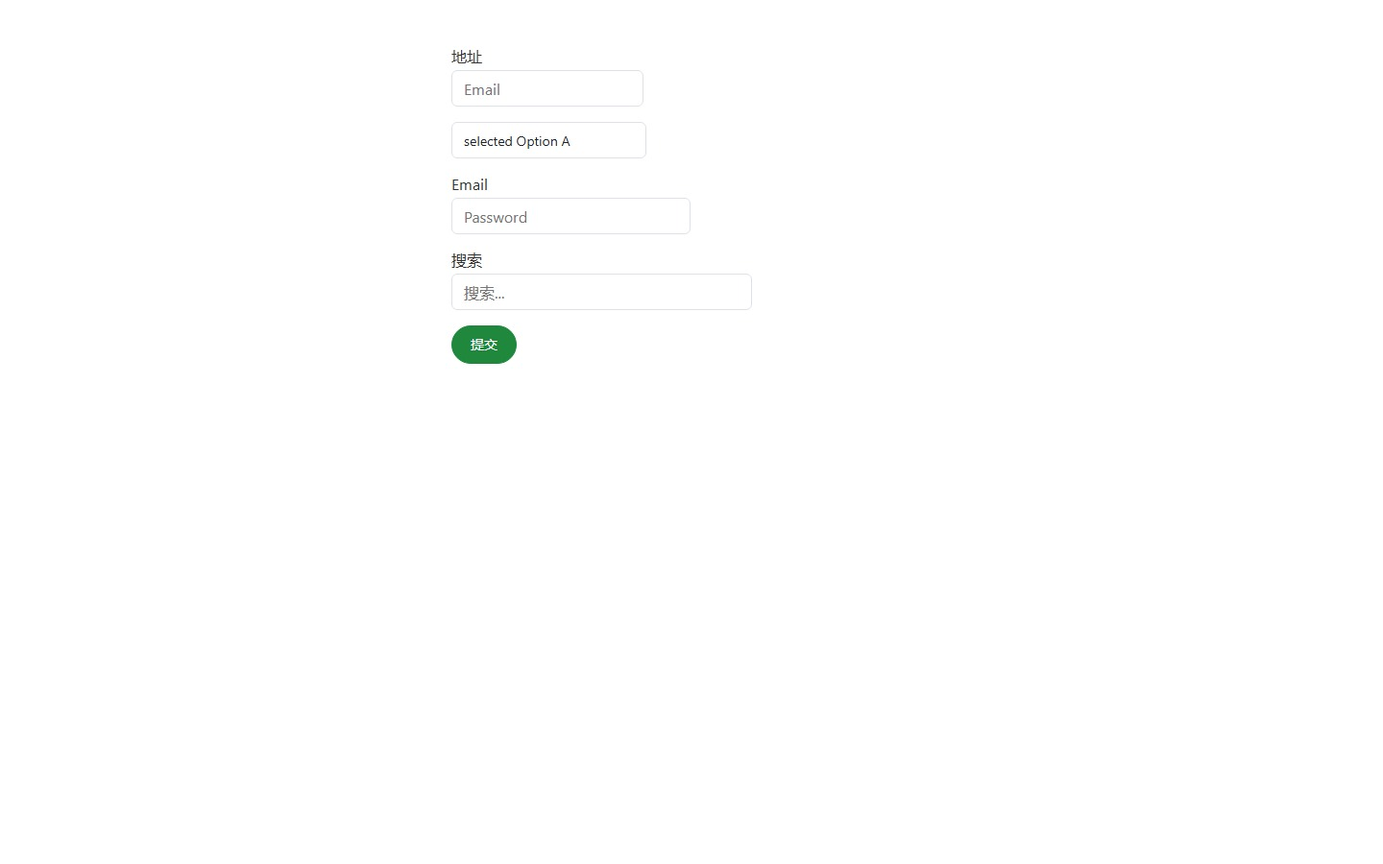button: (451, 325, 517, 364)
input: (451, 274, 752, 310), (451, 198, 691, 234), (451, 70, 643, 107)
select: (451, 122, 646, 158)
